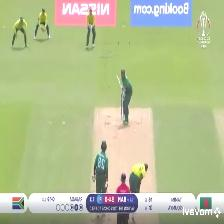batsman: (113, 63, 135, 128)
